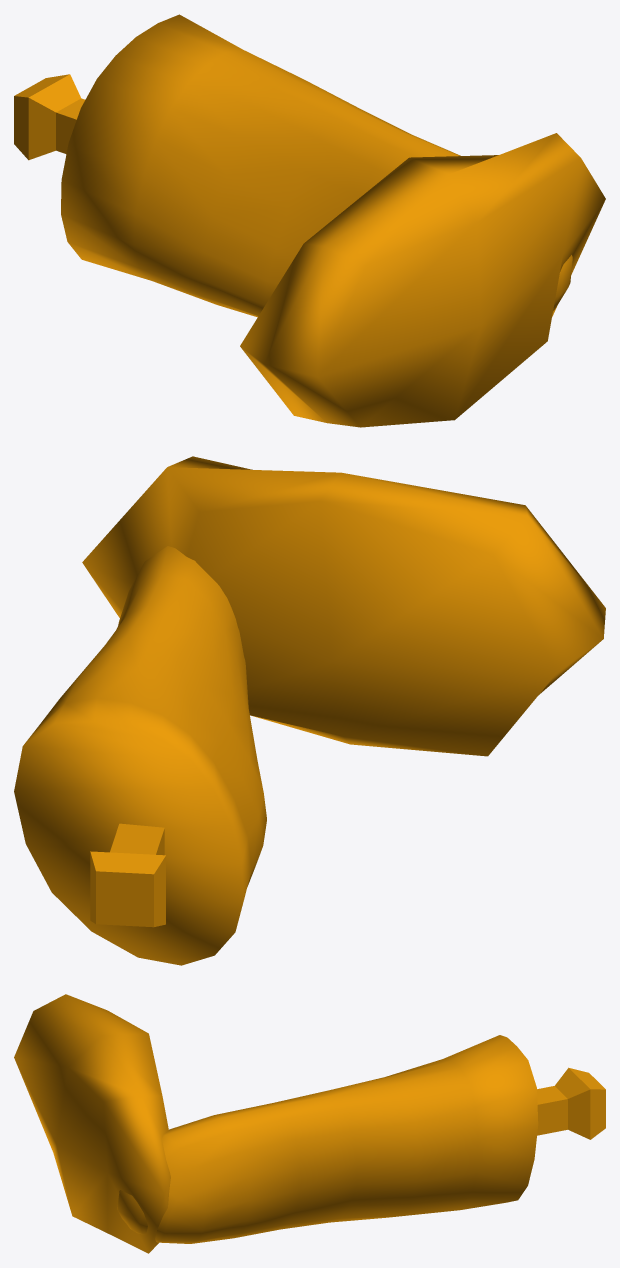
File: Feet.fbx
The picture shows the model from 3 angles, top to bottom: view 1: azimuth 30°, elevation 25°; view 2: azimuth 150°, elevation 25°; view 3: azimuth 270°, elevation 25°; orthographic projection. The views are drawn at different scales.
Parts seen in each view (by area): view 1: PM3D_Cylinder3D_6, PM3D_Cylinder3D_6.001; view 2: PM3D_Cylinder3D_6, PM3D_Cylinder3D_6.001; view 3: PM3D_Cylinder3D_6, PM3D_Cylinder3D_6.001.
Part boxes in pixels (x1,y1,x2,y2): PM3D_Cylinder3D_6: [61, 14, 605, 427]; PM3D_Cylinder3D_6.001: [14, 74, 84, 160]; PM3D_Cylinder3D_6: [14, 456, 605, 965]; PM3D_Cylinder3D_6.001: [90, 823, 165, 927]; PM3D_Cylinder3D_6: [14, 994, 538, 1253]; PM3D_Cylinder3D_6.001: [537, 1067, 605, 1139].
Bounding box in the file's own units: 336 × 192 × 524.
